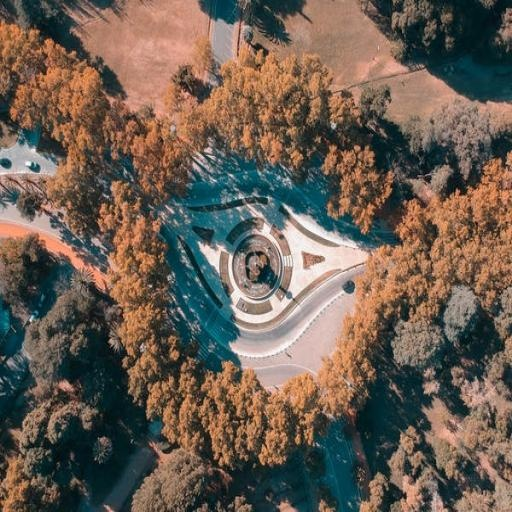tree-top: (215, 48, 326, 180), (428, 169, 512, 293), (16, 290, 107, 392), (14, 48, 106, 147), (126, 334, 203, 450), (349, 242, 425, 338), (200, 357, 260, 477), (320, 142, 402, 229), (408, 101, 486, 189), (18, 389, 96, 477), (101, 262, 169, 348), (101, 189, 164, 279), (389, 0, 464, 70), (130, 121, 194, 197), (313, 346, 370, 429), (46, 162, 98, 242), (0, 234, 46, 318), (259, 388, 300, 473), (155, 447, 206, 512), (395, 318, 440, 386), (97, 97, 148, 156), (0, 470, 68, 512), (440, 283, 479, 350), (0, 17, 46, 72), (178, 96, 213, 153), (400, 198, 438, 247), (285, 371, 318, 418), (331, 88, 363, 136), (464, 409, 496, 454), (363, 82, 393, 122), (130, 475, 160, 512), (396, 482, 427, 512), (395, 429, 424, 459), (172, 63, 198, 96), (369, 470, 389, 512), (91, 430, 114, 466), (431, 434, 454, 469), (18, 187, 42, 218), (496, 409, 512, 445), (196, 35, 213, 68), (232, 490, 254, 512)
